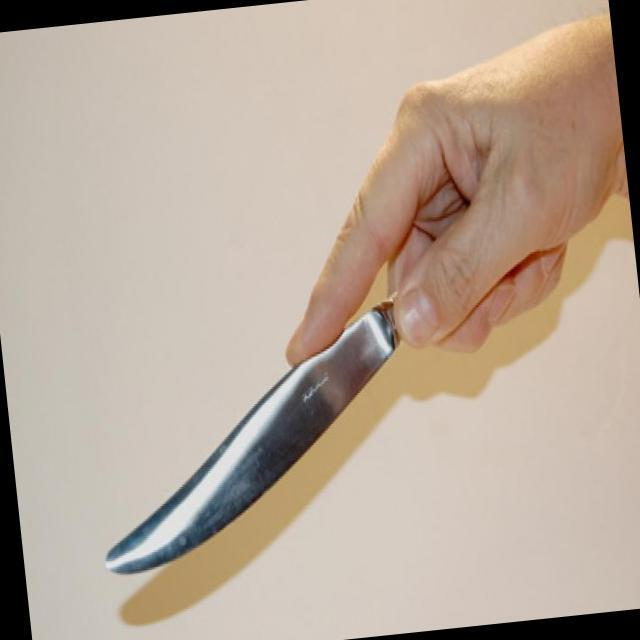Knife: (57, 175, 474, 588)
